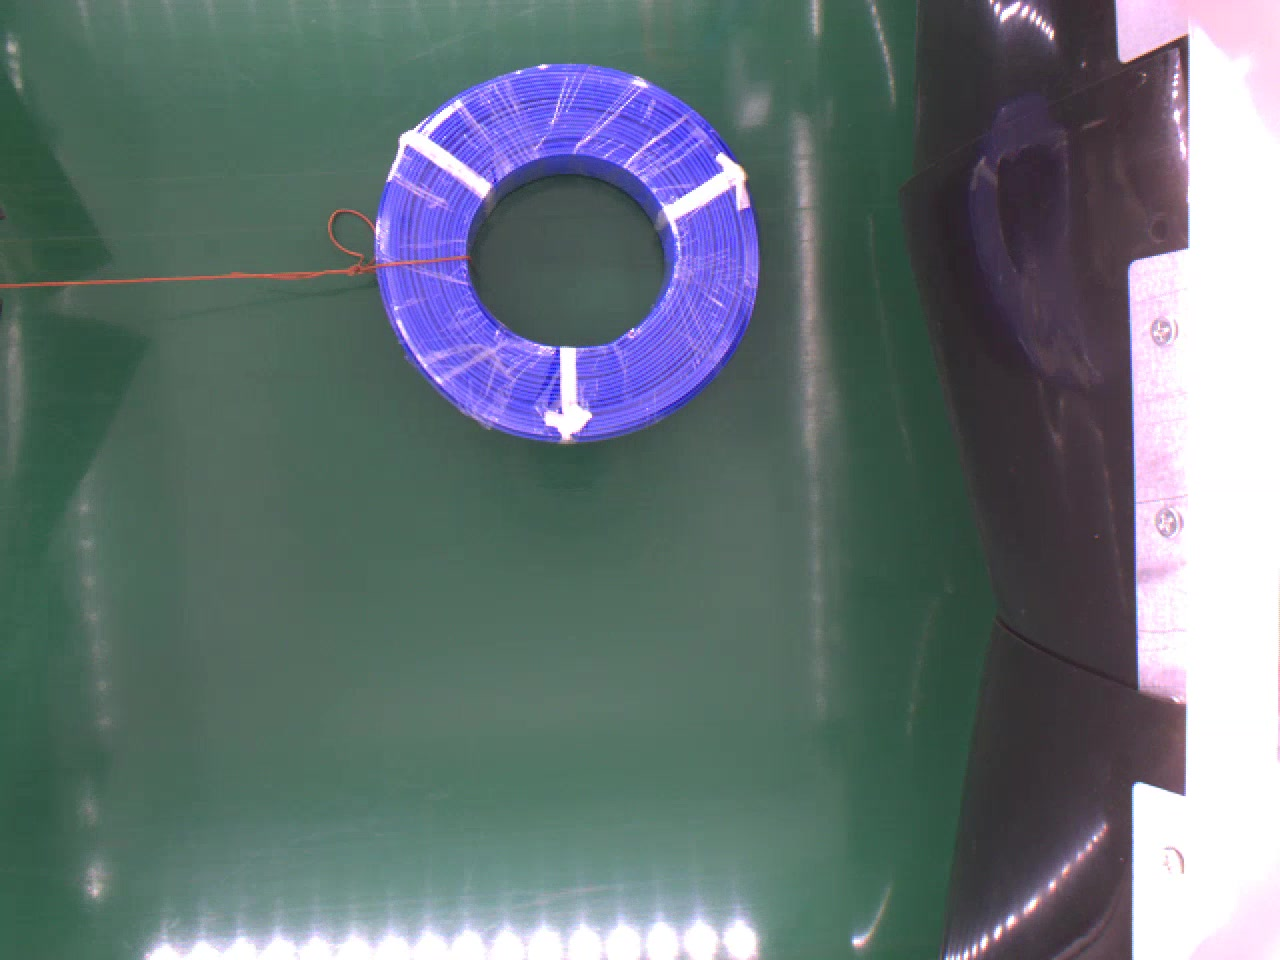blue: (371, 57, 758, 444)
